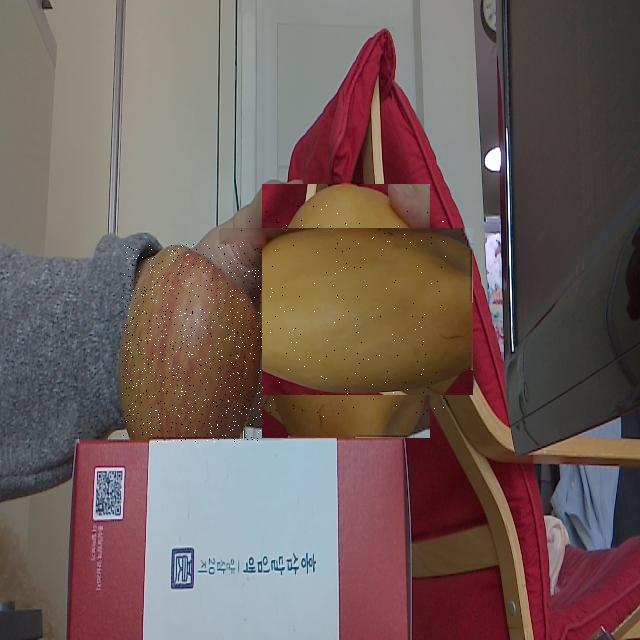apple: (122, 244, 262, 442)
pear: (241, 205, 451, 417)
